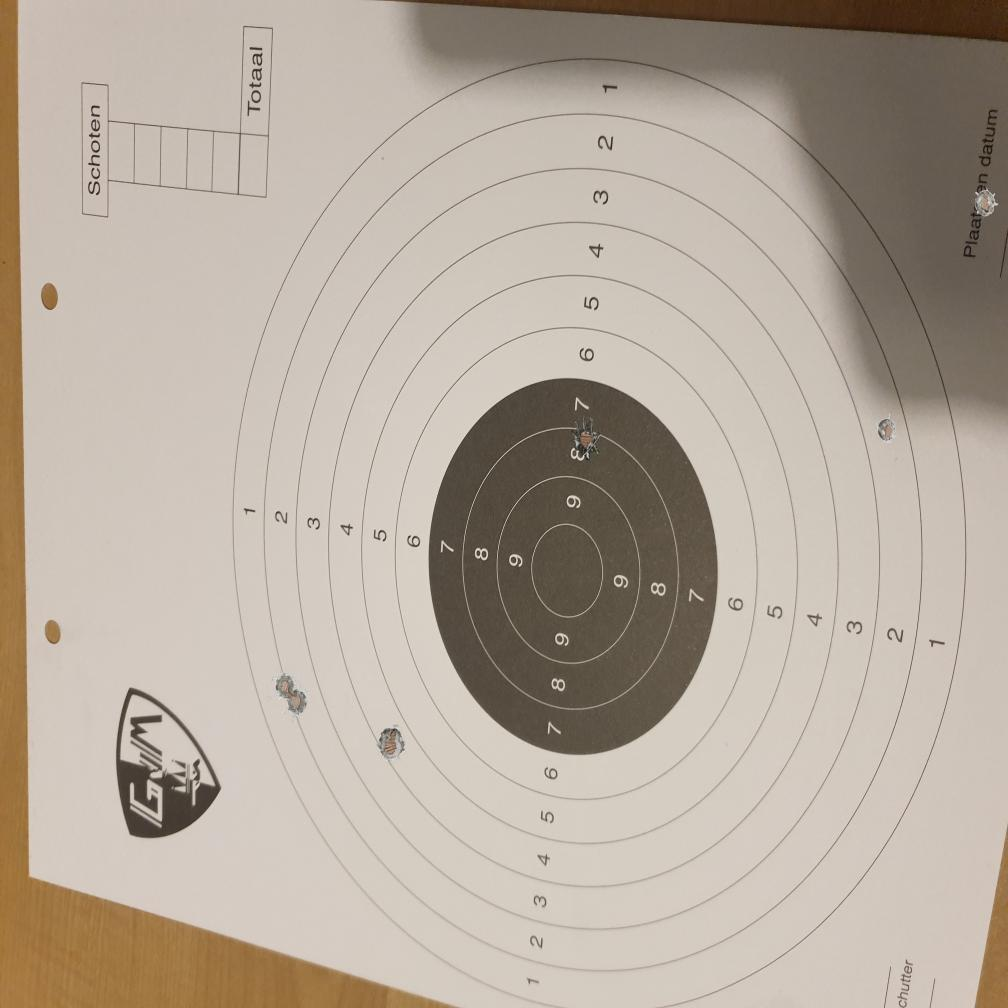0: (975, 189, 996, 217)
2: (876, 414, 896, 443), (288, 688, 308, 715), (274, 671, 293, 697)
4: (378, 726, 404, 760)
8: (571, 418, 602, 460)
Target: (234, 53, 968, 1004)
black_contour: (430, 377, 716, 755)
